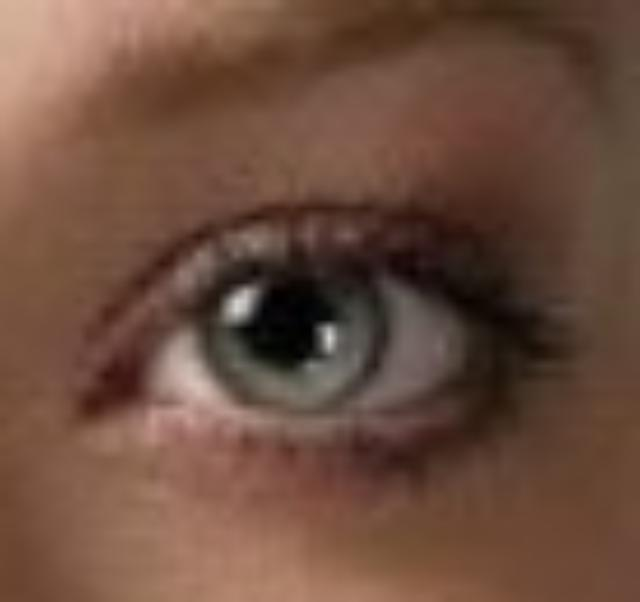eye: (196, 249, 392, 419)
